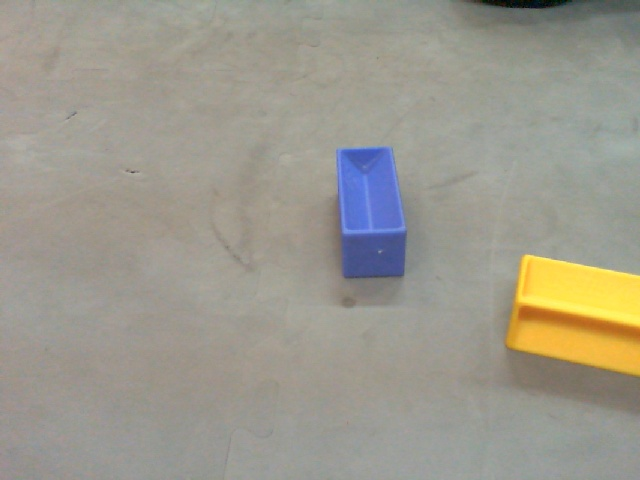BlueSample: (336, 146, 407, 281)
YellowSample: (503, 250, 640, 383)
